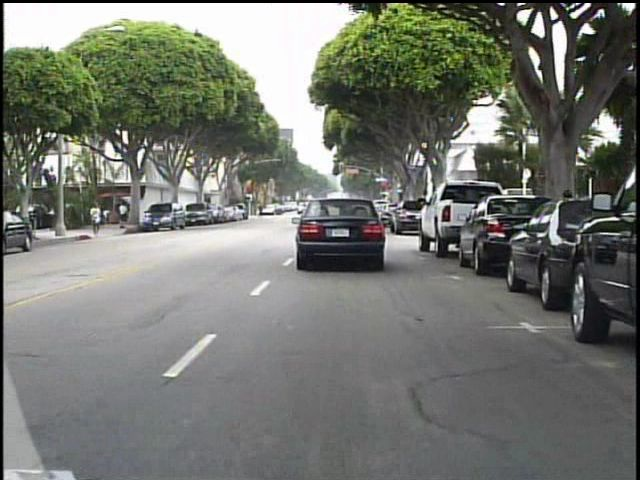person: (89, 197, 107, 238), (118, 198, 130, 229), (254, 200, 269, 223)
